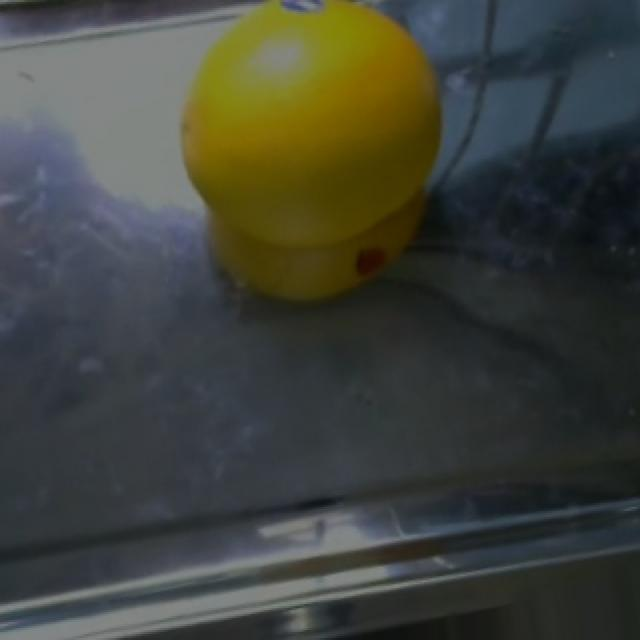Fruit: (168, 0, 465, 334)
